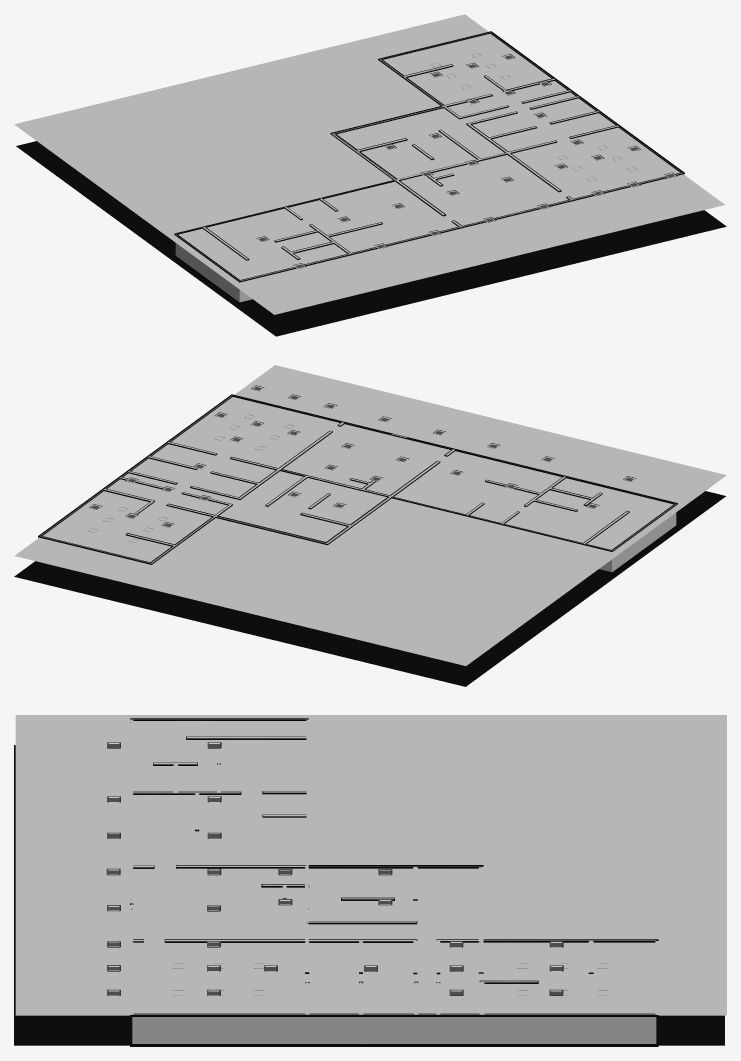
3 renders of one model, top to bottom at view 1: azimuth 30°, elevation 25°; view 2: azimuth 150°, elevation 25°; view 3: azimuth 270°, elevation 25°, orthographic. The views are drawn at different scales.
Visible parts, largest first — view 1: Roof2.002, carpetSquare.001, skirtings.002, outerWalls.002, lights.003; view 2: Roof2.002, carpetSquare.001, skirtings.002, outerWalls.002, lights.003; view 3: Roof2.002, outerWalls.002, skirtings.002, carpetSquare.001, lights.003.
Boxes of the visible parts, x1=… form: Roof2.002: x1=14, y1=14, x2=724, y2=314; carpetSquare.001: x1=16, y1=141, x2=726, y2=336; skirtings.002: x1=174, y1=31, x2=684, y2=303; outerWalls.002: x1=175, y1=32, x2=682, y2=302; lights.003: x1=256, y1=54, x2=677, y2=268; Roof2.002: x1=14, y1=365, x2=726, y2=665; carpetSquare.001: x1=14, y1=491, x2=725, y2=686; skirtings.002: x1=38, y1=394, x2=677, y2=573; outerWalls.002: x1=40, y1=395, x2=676, y2=572; lights.003: x1=89, y1=385, x2=636, y2=527; Roof2.002: x1=15, y1=715, x2=726, y2=1015; outerWalls.002: x1=130, y1=719, x2=656, y2=1043; skirtings.002: x1=130, y1=718, x2=658, y2=1046; carpetSquare.001: x1=14, y1=745, x2=724, y2=1045; lights.003: x1=106, y1=742, x2=563, y2=995.
Size of the model in its own units: 65.36 by 4.14 by 65.31.
